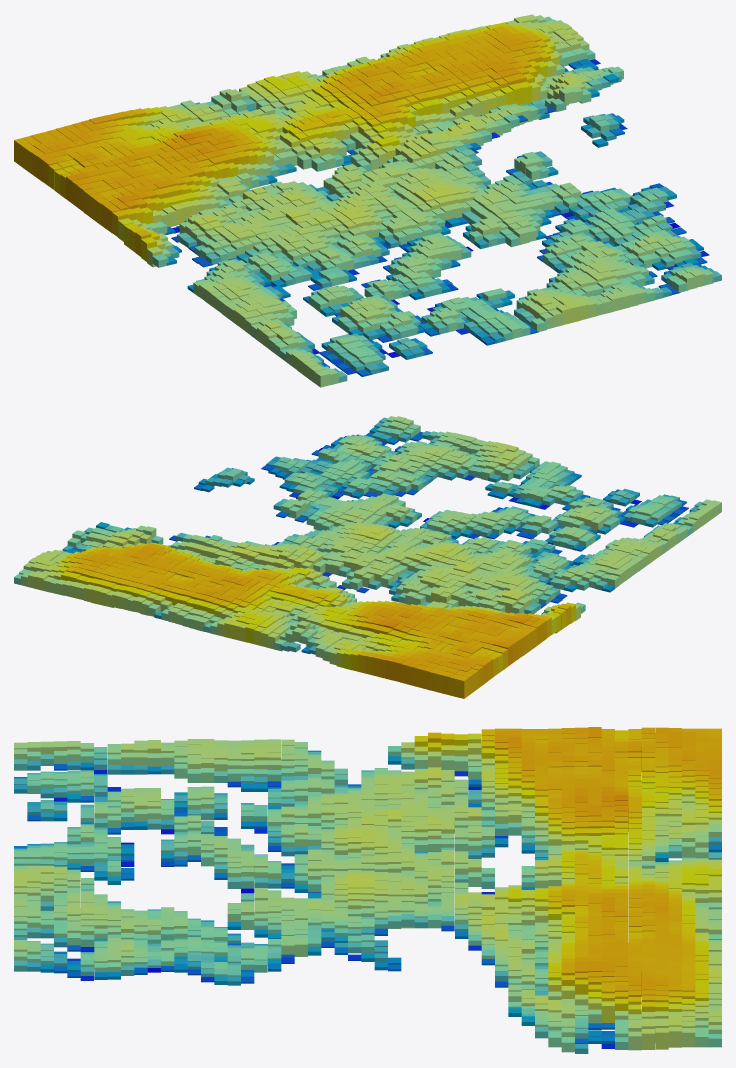
The model's file is population.glb.
3 renders of one model, top to bottom at view 1: azimuth 30°, elevation 25°; view 2: azimuth 150°, elevation 25°; view 3: azimuth 270°, elevation 25°, orthographic. The views are drawn at different scales.
Visible parts, largest first — view 1: population; view 2: population; view 3: population.
Part boxes in pixels (box(x1,y1,x2,y2)): population: box(14, 14, 721, 387); population: box(14, 416, 721, 698); population: box(14, 727, 721, 1053).
Bounding box in the file's own units: 5350 × 532 × 5307.
